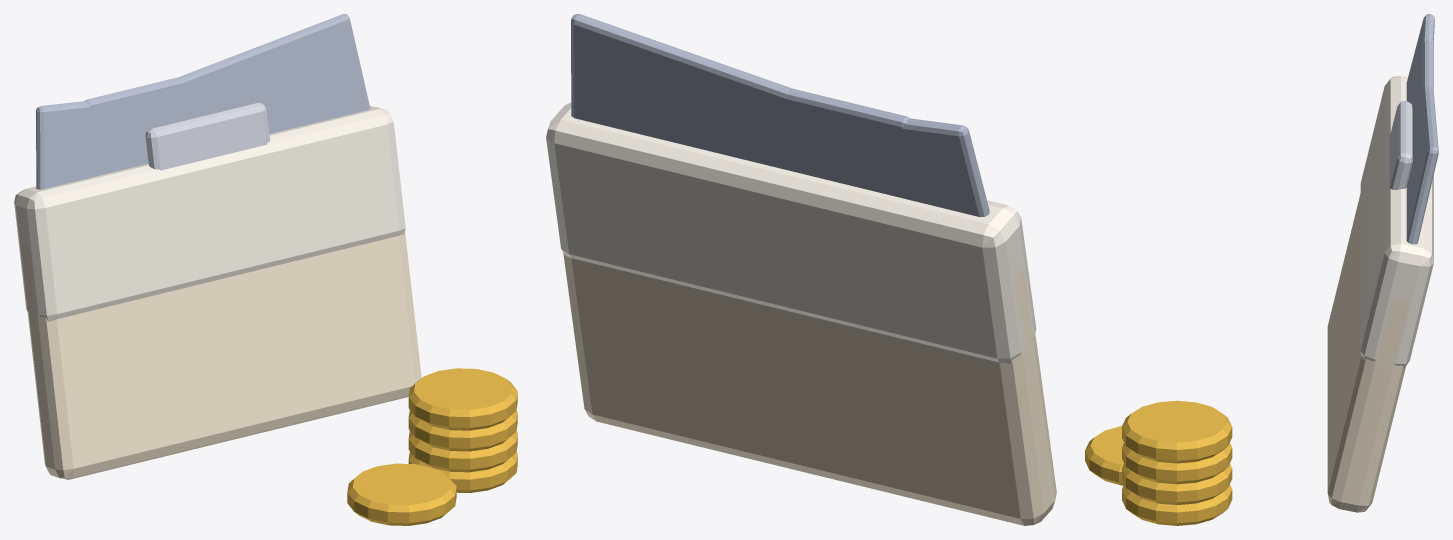
File: cash.glb
3 views of the same model, side by side, from view 1: azimuth 30°, elevation 25°; view 2: azimuth 150°, elevation 25°; view 3: azimuth 270°, elevation 25° (orthographic). The views are drawn at different scales.
Parts seen in each view (by area): view 1: cash; view 2: cash; view 3: cash.
Part boxes in pixels (box(x1,y1,x2,y2)): cash: box(14, 14, 517, 525); cash: box(546, 14, 1056, 525); cash: box(1085, 14, 1438, 525).
Bounding box in the file's own units: 0.94 × 0.8699 × 0.7697.
